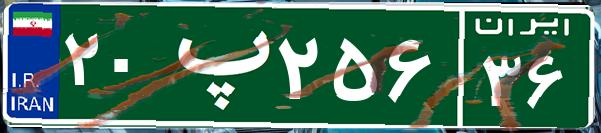0: (110, 28, 158, 105)
2: (273, 28, 330, 110), (57, 26, 110, 107)
3: (475, 38, 525, 113)
5: (330, 28, 385, 110)
6: (385, 28, 445, 110), (525, 38, 570, 115)
پ: (158, 15, 273, 115)
